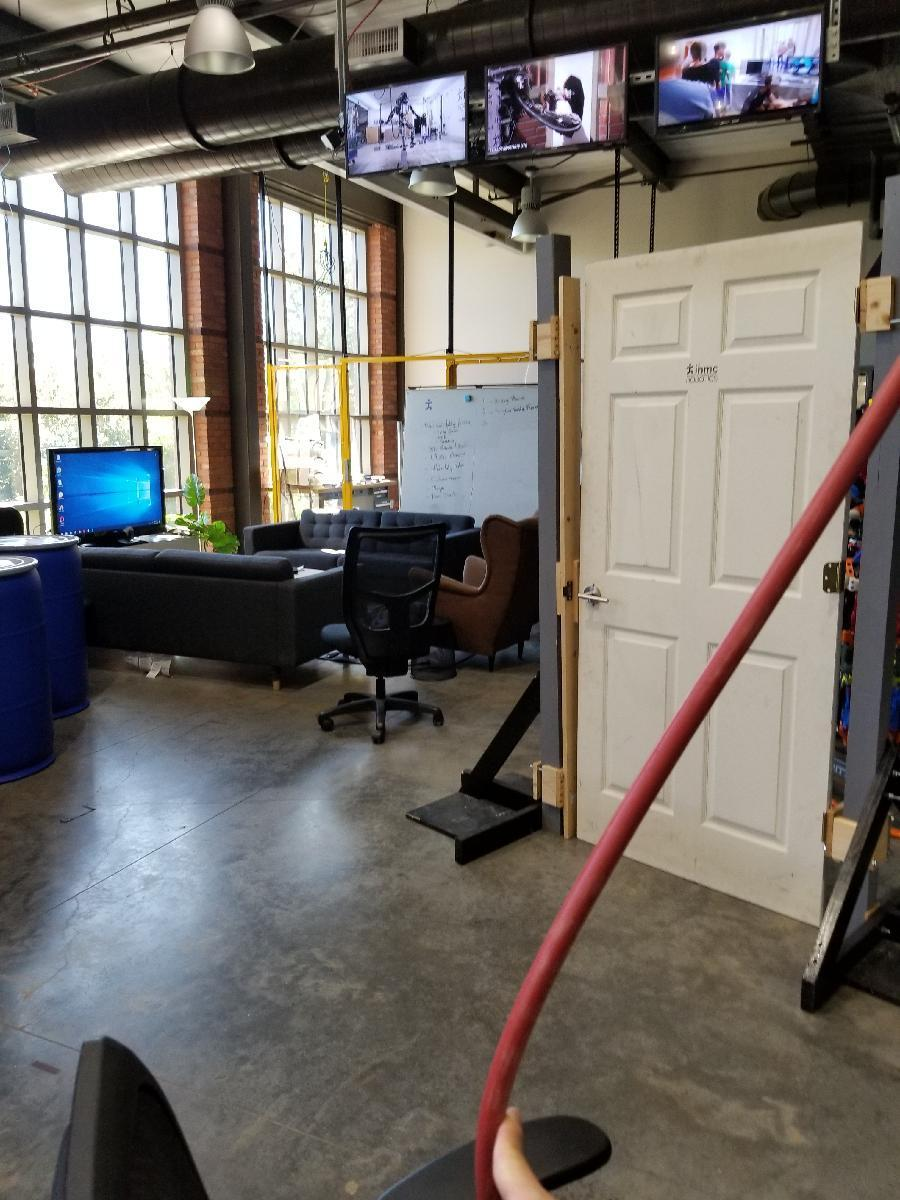door: (588, 255, 833, 929)
handle: (580, 582, 610, 610)
